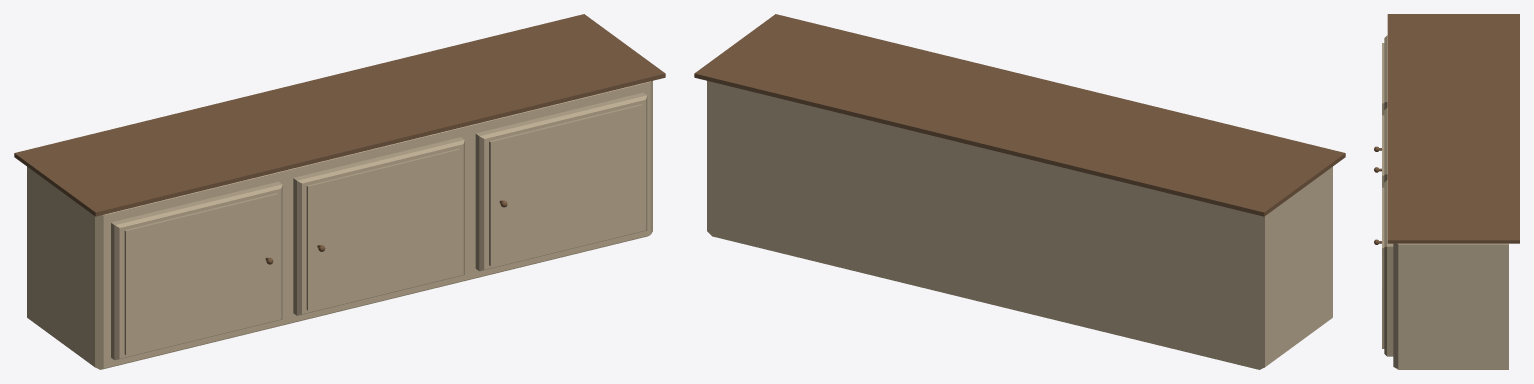
Rendered from Cabinet.glb.
3 renders of one model, left to right at view 1: azimuth 30°, elevation 25°; view 2: azimuth 150°, elevation 25°; view 3: azimuth 270°, elevation 25°, orthographic. The views are drawn at different scales.
Visible parts, largest first — view 1: Cabinet; view 2: Cabinet; view 3: Cabinet.
Part boxes in pixels (x1,y1,x2,y2): Cabinet: (14,14,665,369); Cabinet: (694,14,1345,369); Cabinet: (1374,14,1519,369).
Size of the model in its own units: 2.5 by 0.692 by 0.6819.
Materials: 1 (1 with a texture image).
